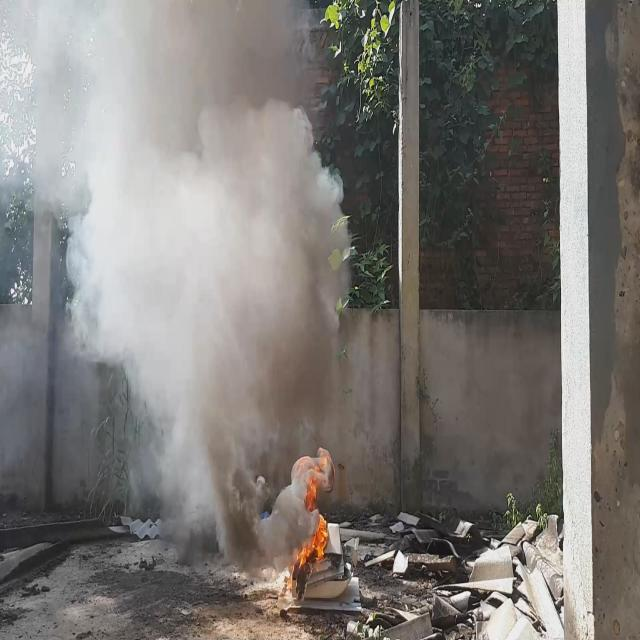Fire: (292, 448, 332, 572)
Smoke: (0, 0, 353, 578)
